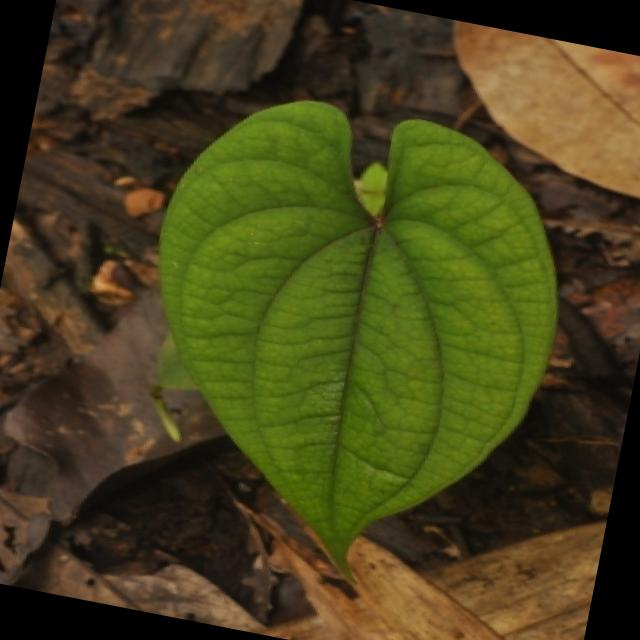Yam: (90, 55, 615, 566)
